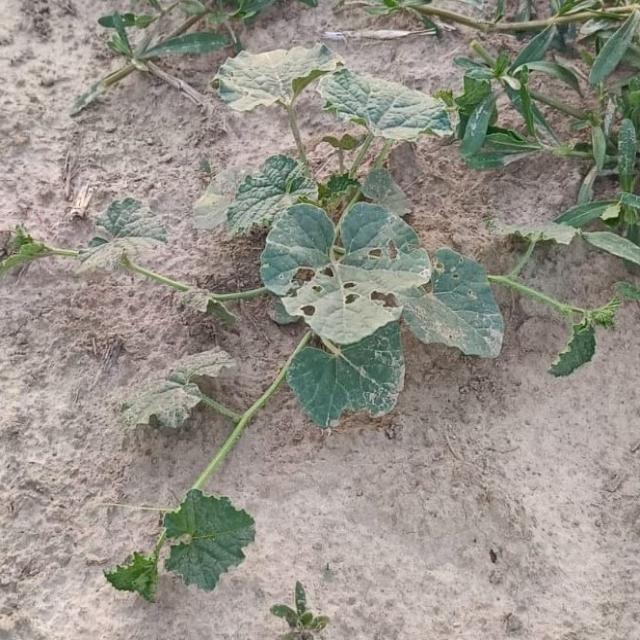plant: (105, 43, 504, 601)
